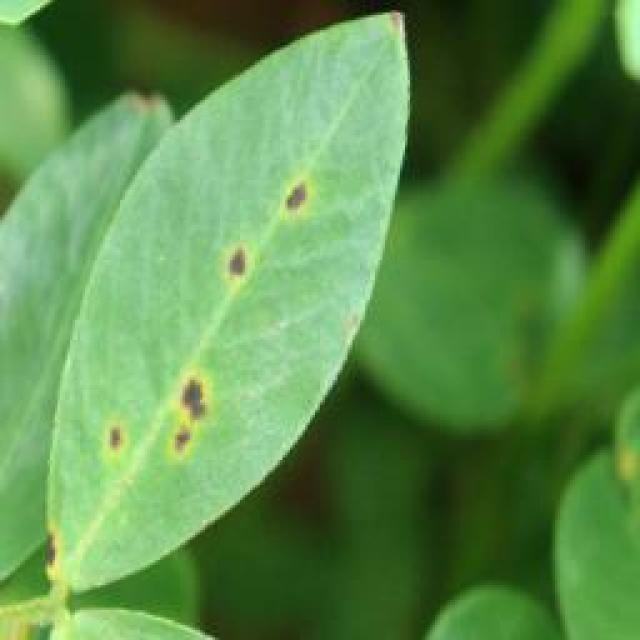Sigatoka: (193, 156, 328, 301), (92, 370, 220, 476)
